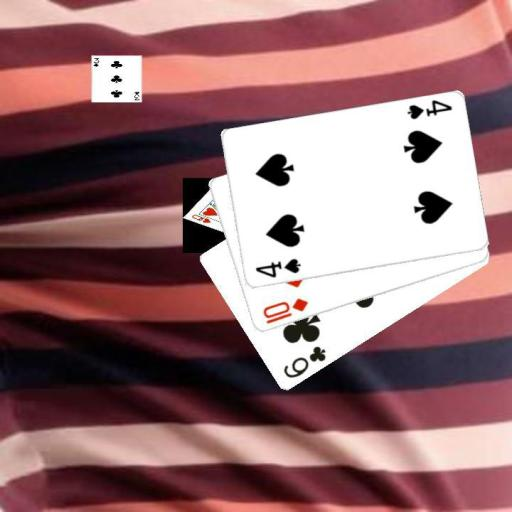10D: (260, 295, 310, 326)
4S: (252, 255, 302, 280), (404, 97, 454, 121)
6C: (279, 343, 328, 380)
